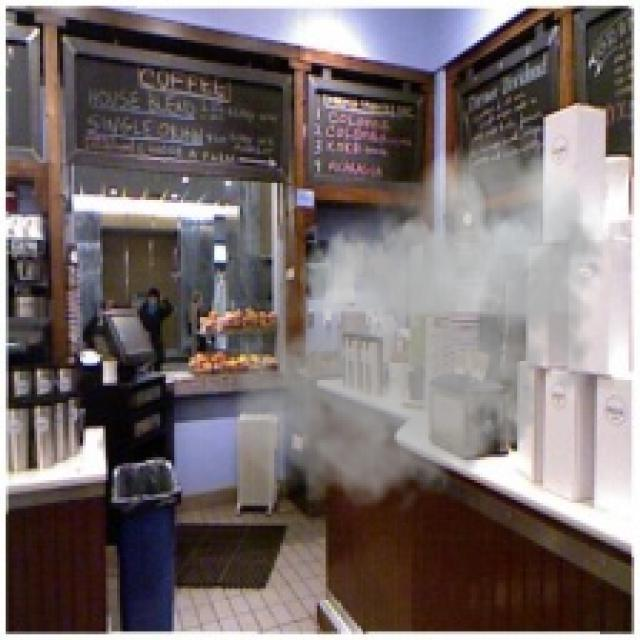Smoke: (225, 126, 618, 523)
